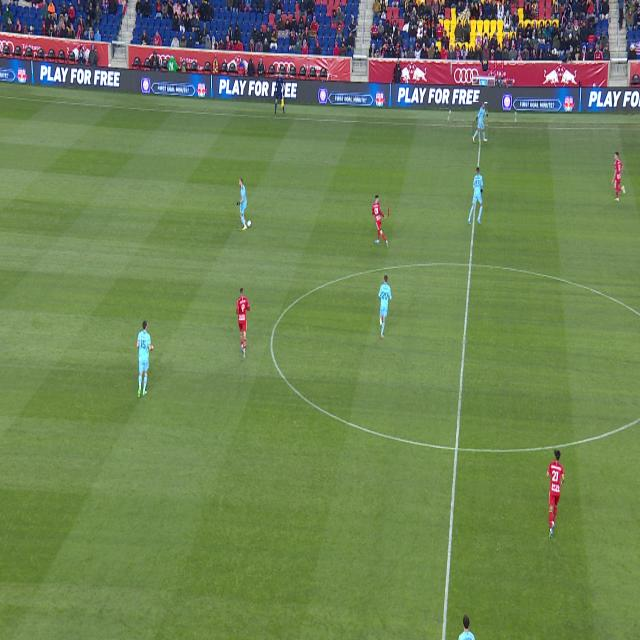football: (247, 219, 252, 228)
player: (547, 449, 564, 538), (137, 321, 154, 398), (236, 289, 250, 359), (378, 275, 392, 339), (468, 167, 483, 225), (373, 196, 388, 249), (612, 152, 626, 202), (472, 103, 488, 143), (237, 178, 247, 230), (458, 615, 475, 640)
